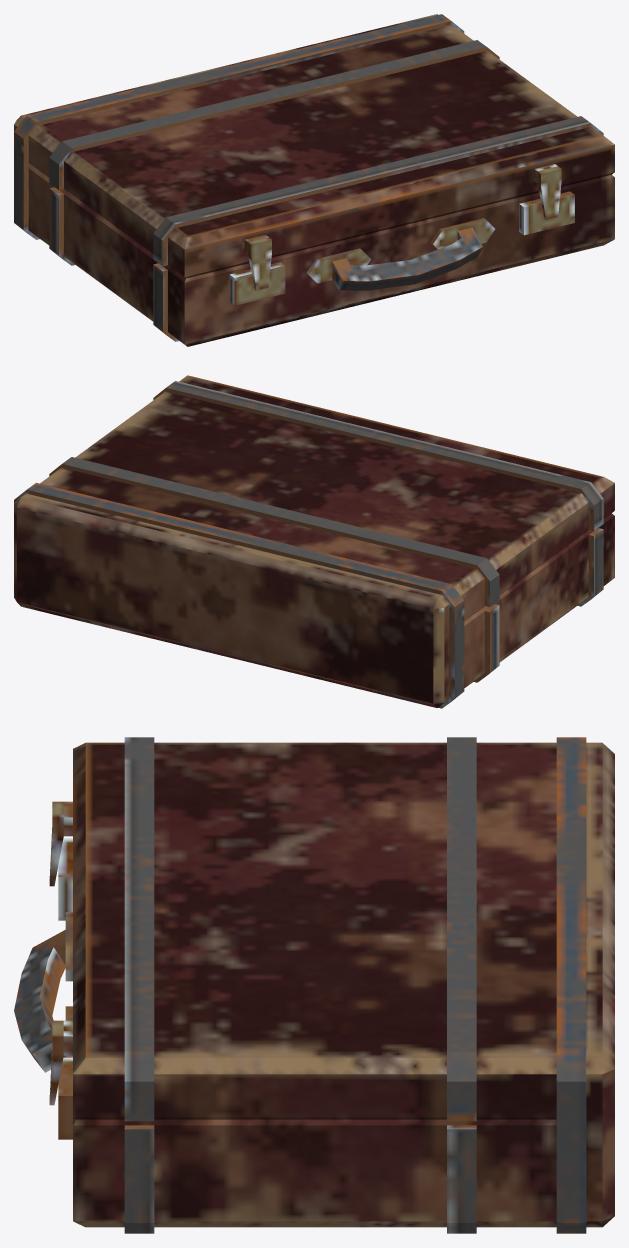
File: suitcase.fbx
3 views of the same model, one above another, from view 1: azimuth 30°, elevation 25°; view 2: azimuth 150°, elevation 25°; view 3: azimuth 270°, elevation 25° (orthographic). The views are drawn at different scales.
Visible parts, largest first — view 1: Suitcase; view 2: Suitcase; view 3: Suitcase.
Part boxes in pixels (<box>): Suitcase: <box>14,14,614,346</box>; Suitcase: <box>14,375,614,708</box>; Suitcase: <box>14,737,614,1233</box>.
Bounding box in the file's own units: 80.24 × 20.46 × 61.11.
1 material, 1 textured.
